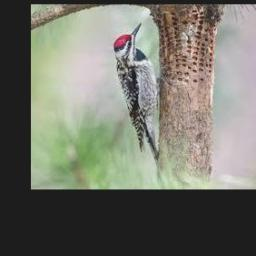Woodpecker: (114, 22, 161, 163)
